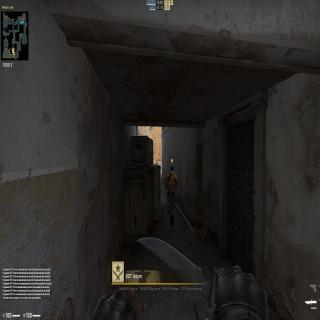T-Head: (170, 165, 174, 172)
